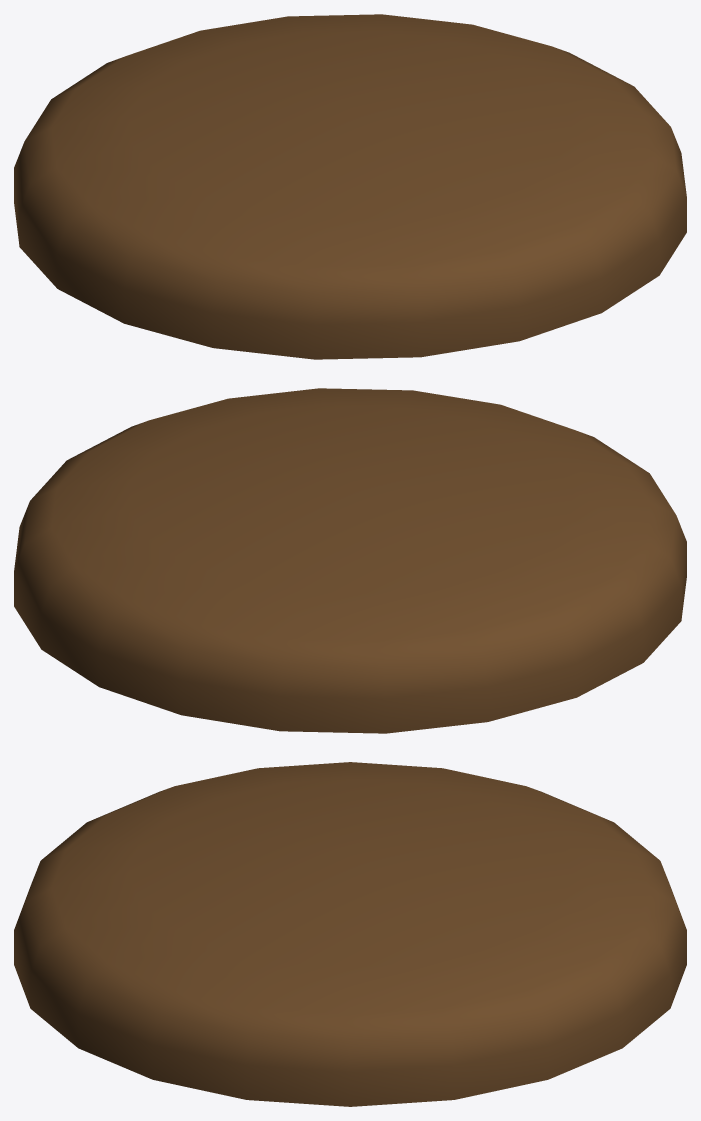
The model's file is Cookie_Mesh_01.fbx.
The picture shows the model from 3 angles, top to bottom: view 1: azimuth 30°, elevation 25°; view 2: azimuth 150°, elevation 25°; view 3: azimuth 270°, elevation 25°; orthographic projection.
Visible parts, largest first — view 1: pCylinder1; view 2: pCylinder1; view 3: pCylinder1.
Boxes of the visible parts, left/top/right/bottom form: pCylinder1: left=14, top=14, right=686, bottom=359; pCylinder1: left=14, top=388, right=686, bottom=733; pCylinder1: left=14, top=762, right=686, bottom=1106.
Bounding box in the file's own units: 0.9151 × 0.1637 × 0.9151.
